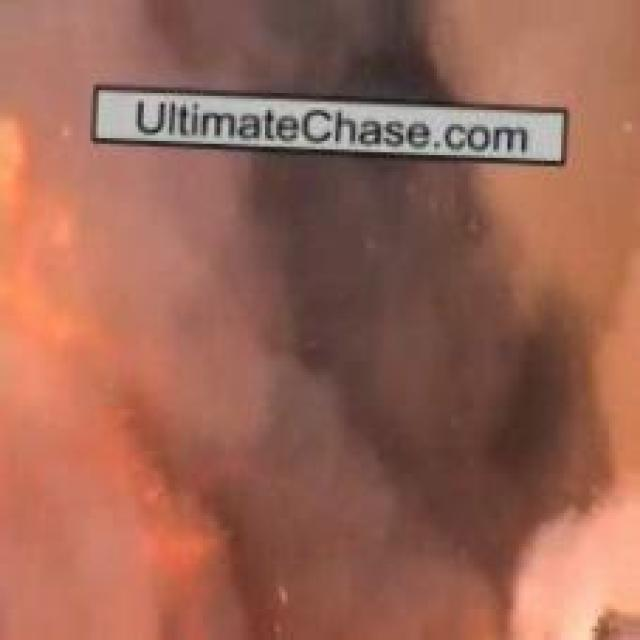smoke: (20, 11, 594, 615)
